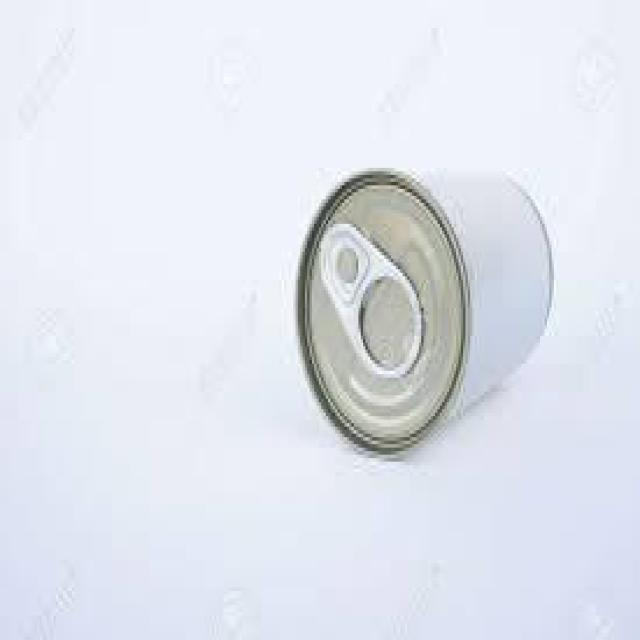can: (288, 165, 558, 462)
pop tab: (316, 224, 426, 381)
